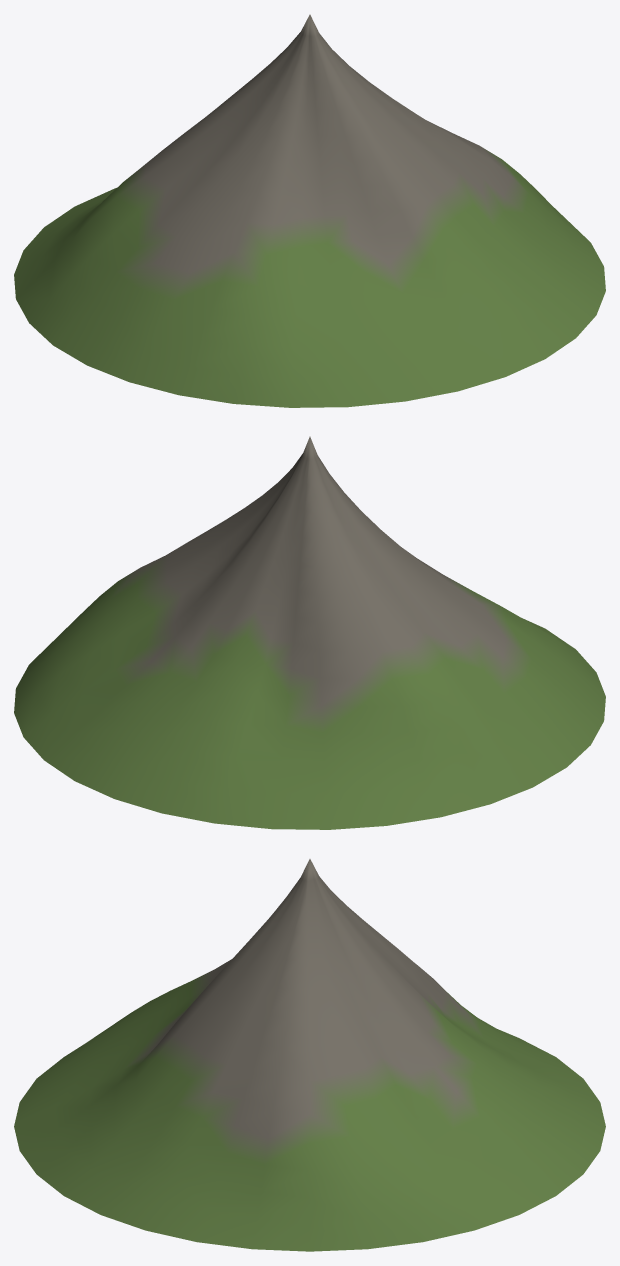
File: mountain-b.glb
3 renders of one model, top to bottom at view 1: azimuth 30°, elevation 25°; view 2: azimuth 150°, elevation 25°; view 3: azimuth 270°, elevation 25°, orthographic.
Parts seen in each view (by area): view 1: body; view 2: body; view 3: body.
Boxes of the visible parts, x1=… form: body: x1=14, y1=14, x2=605, y2=407; body: x1=14, y1=436, x2=605, y2=829; body: x1=14, y1=859, x2=605, y2=1251.
Bounding box in the file's own units: 2 × 1 × 2.
